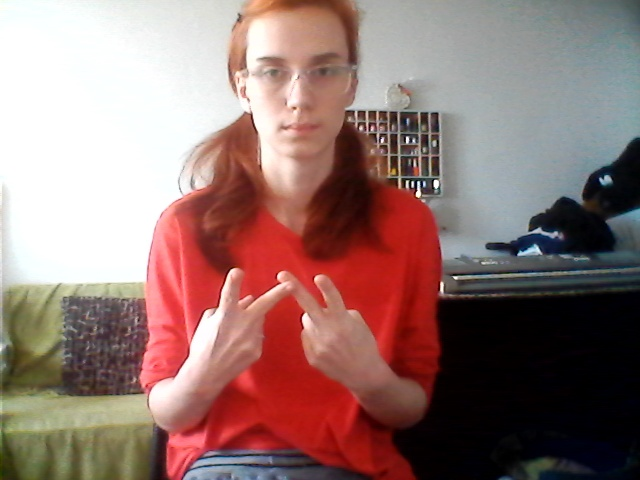w: (191, 260, 381, 390)
